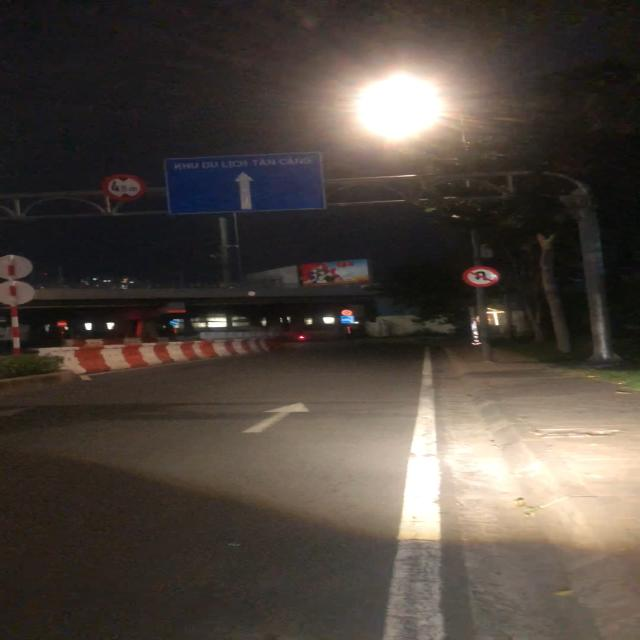Bien bao cam quay dau xe: (460, 265, 500, 289)
Bien bao han che chieu cao: (99, 172, 150, 204)
